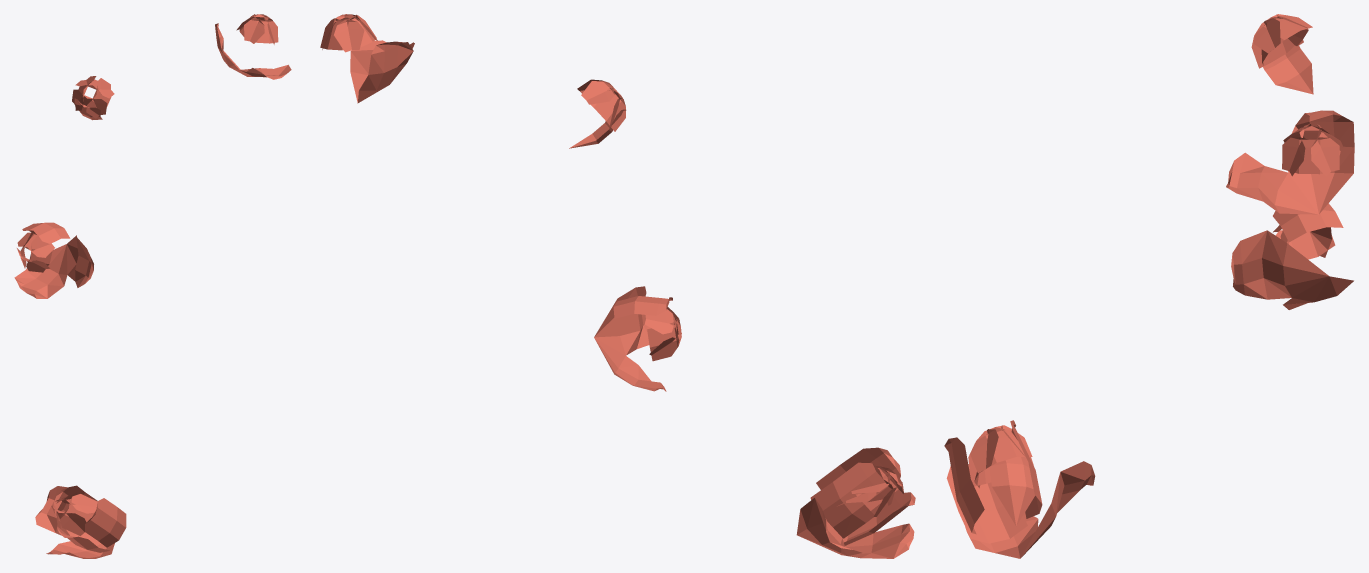
Rendered from 06_openskp_material_74.001.obj.
The picture shows the model from 3 angles, left to right: view 1: azimuth 30°, elevation 25°; view 2: azimuth 150°, elevation 25°; view 3: azimuth 270°, elevation 25°; orthographic projection. The views are drawn at different scales.
Parts seen in each view (by area): view 1: 06_openskp_material_74.001; view 2: 06_openskp_material_74.001; view 3: 06_openskp_material_74.001.
Boxes of the visible parts, x1,y1,x2,y2 form: 06_openskp_material_74.001: (14, 14, 291, 558); 06_openskp_material_74.001: (320, 14, 915, 558); 06_openskp_material_74.001: (944, 14, 1354, 558).
Size of the model in its own units: 14.12 by 16.44 by 9.82.
